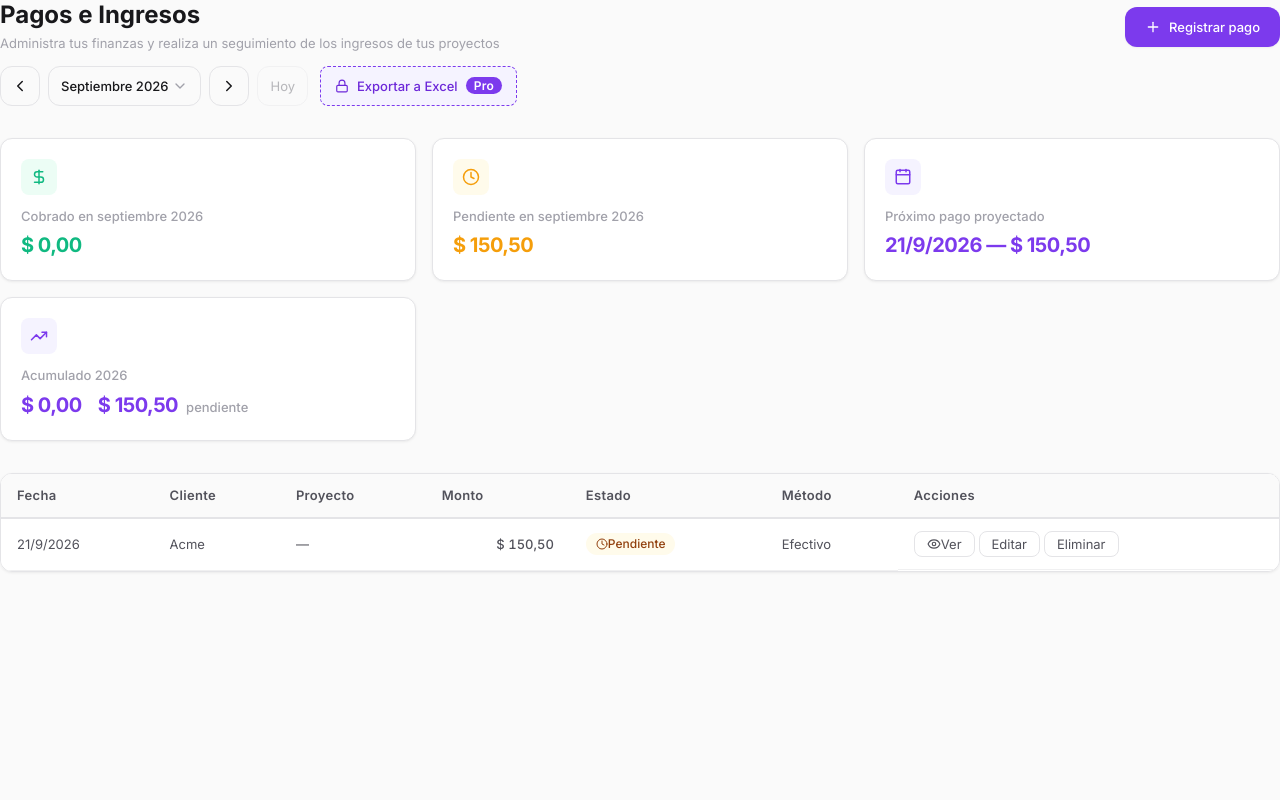
Scenario: PaymentsPage — naming › labels the header action 'Registrar pago' and titles the edit modal 'Editar pago' (triangulation: edit vs create)
The image size is (1280, 800).
Step 1. Click the button "Editar" → (1009, 544), box [978,531,1040,557]
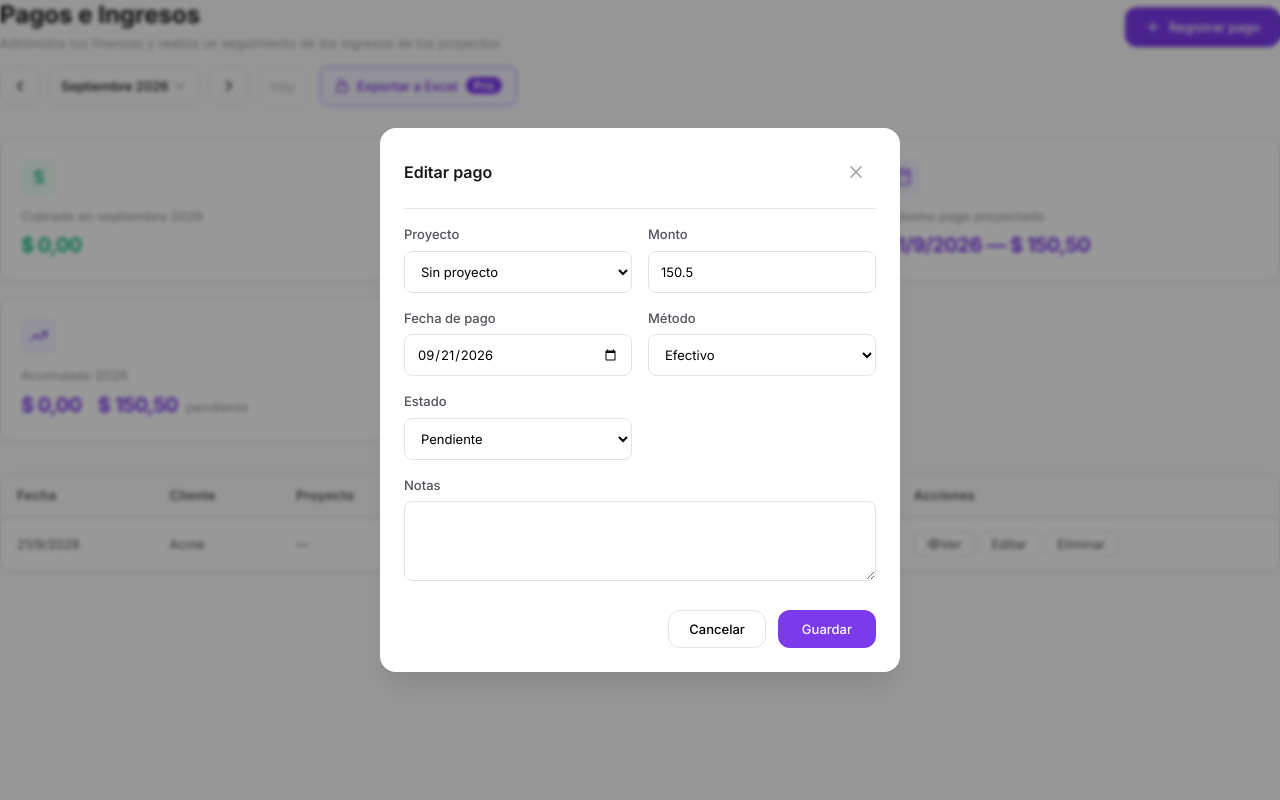
Expected: the heading "Editar pago" is shown, [404,162,492,182]
